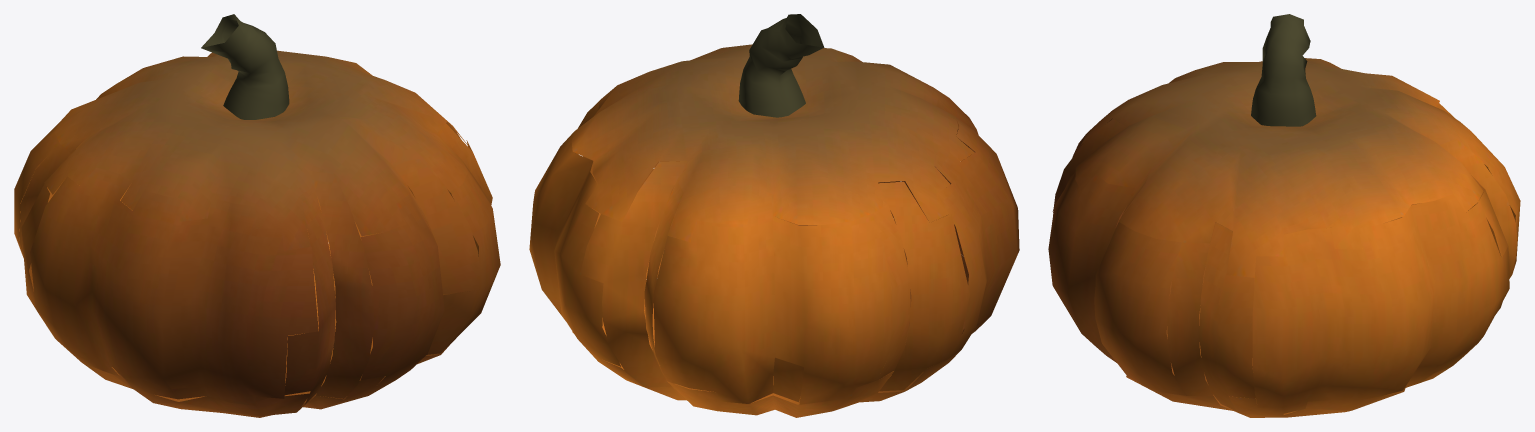
File: pumpkin_a.glb
3 renders of one model, left to right at view 1: azimuth 30°, elevation 25°; view 2: azimuth 150°, elevation 25°; view 3: azimuth 270°, elevation 25°, orthographic. The views are drawn at different scales.
Visible parts, largest first — view 1: pumpkin_a, pumpkin_a_stem; view 2: pumpkin_a, pumpkin_a_stem; view 3: pumpkin_a, pumpkin_a_stem.
Boxes of the visible parts, left/top/right/bottom form: pumpkin_a: left=14, top=50, right=500, bottom=417; pumpkin_a_stem: left=201, top=14, right=289, bottom=119; pumpkin_a: left=529, top=44, right=1019, bottom=417; pumpkin_a_stem: left=738, top=14, right=824, bottom=117; pumpkin_a: left=1048, top=58, right=1520, bottom=417; pumpkin_a_stem: left=1251, top=14, right=1316, bottom=126.
Bounding box in the file's own units: 0.9969 × 0.8185 × 0.9877.
Materials: 2 (1 with a texture image).
